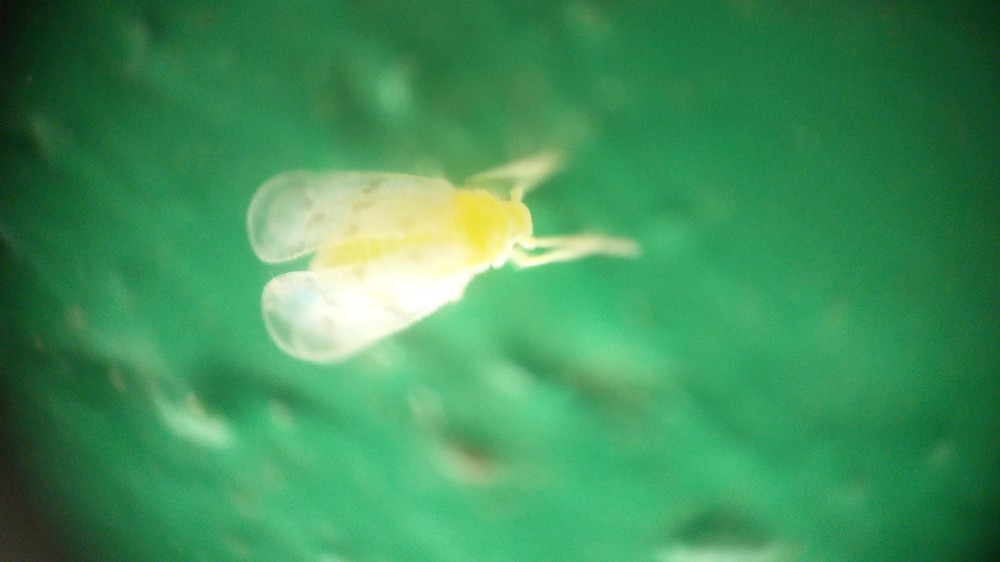Mosca Blanca: (240, 131, 656, 383)
